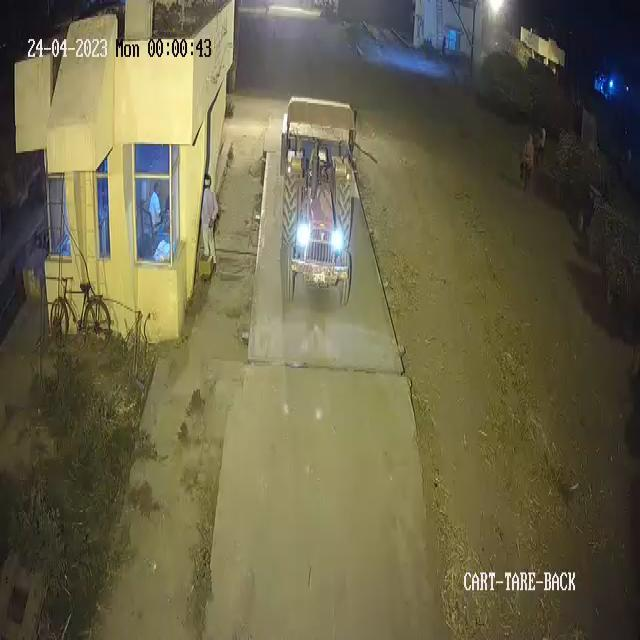Tratores - v5 YOLO V8L 2024-11-13: (280, 90, 356, 319)
